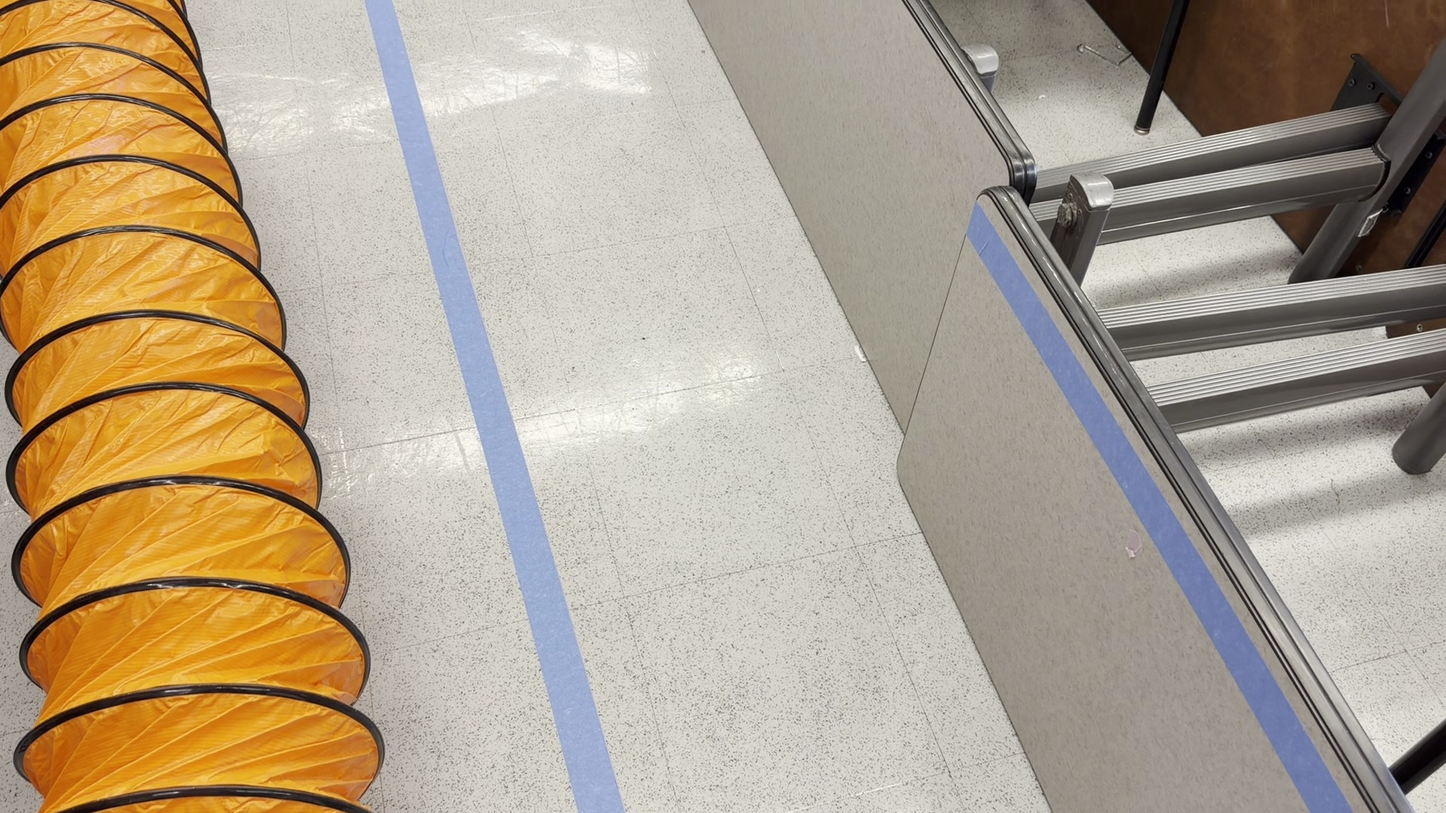racecar: (699, 0, 1443, 813), (1077, 194, 1320, 327)
